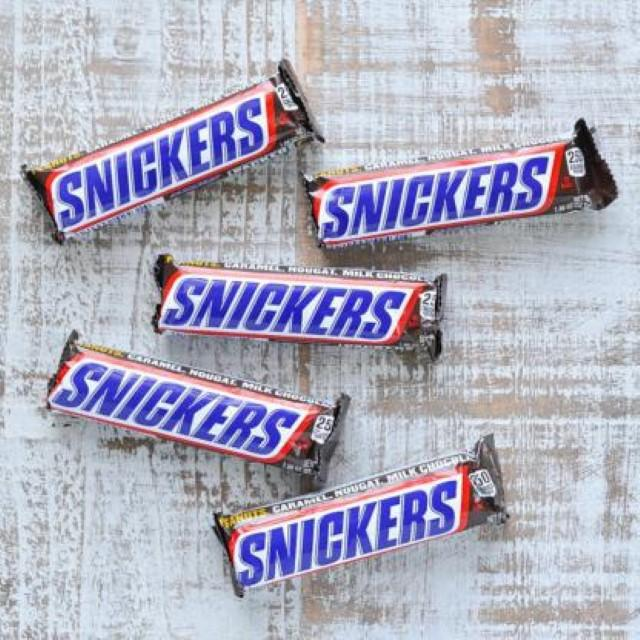snickers_chocolate: (58, 70, 305, 247), (234, 454, 504, 584), (317, 135, 603, 242), (45, 363, 322, 455), (143, 288, 480, 337)
